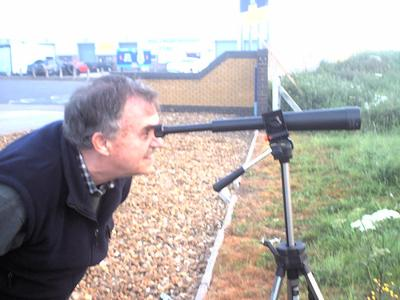person: (2, 81, 164, 300)
